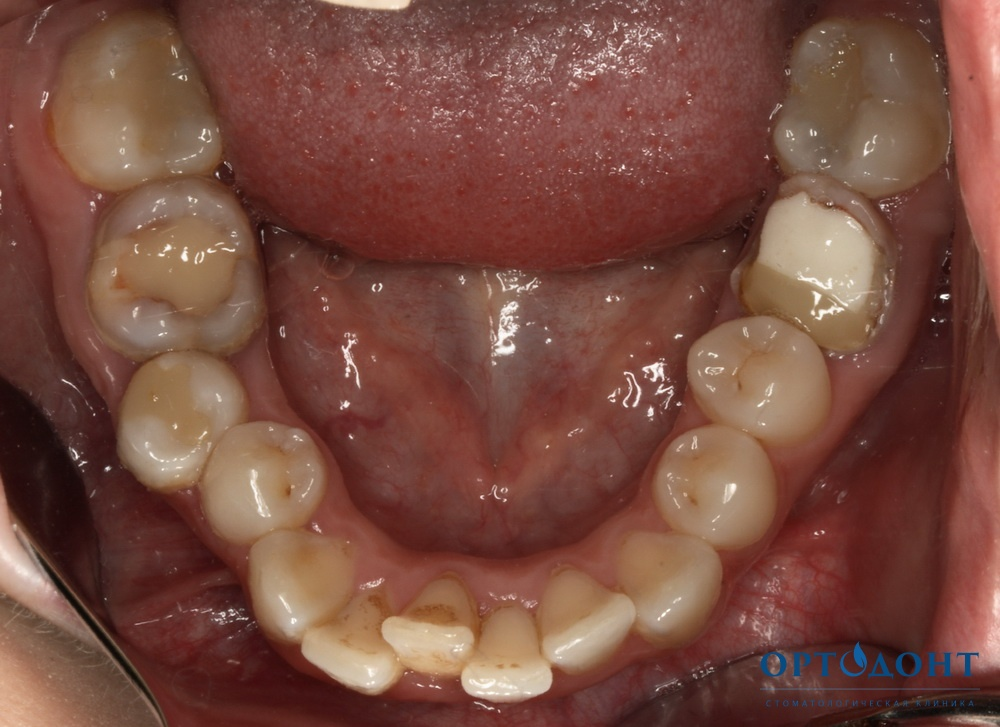LL1BC_healthy: (662, 434, 774, 543)
LL1M_decay: (749, 174, 896, 332)
LL2BC_healthy: (685, 318, 831, 445)
LL2M_healthy: (785, 30, 949, 183)
LLCI_healthy: (473, 609, 553, 700)
LLC_healthy: (623, 527, 723, 638)
LLLI_healthy: (534, 571, 630, 667)
LR1BC_healthy: (216, 420, 325, 526)
LR1M_decay: (101, 195, 265, 342)
LR2BC_healthy: (127, 360, 239, 470)
LR2M_healthy: (69, 33, 225, 175)
LRCI_decay: (392, 583, 475, 676)
LRC_healthy: (251, 535, 348, 632)
LRLI_decay: (320, 600, 393, 689)
